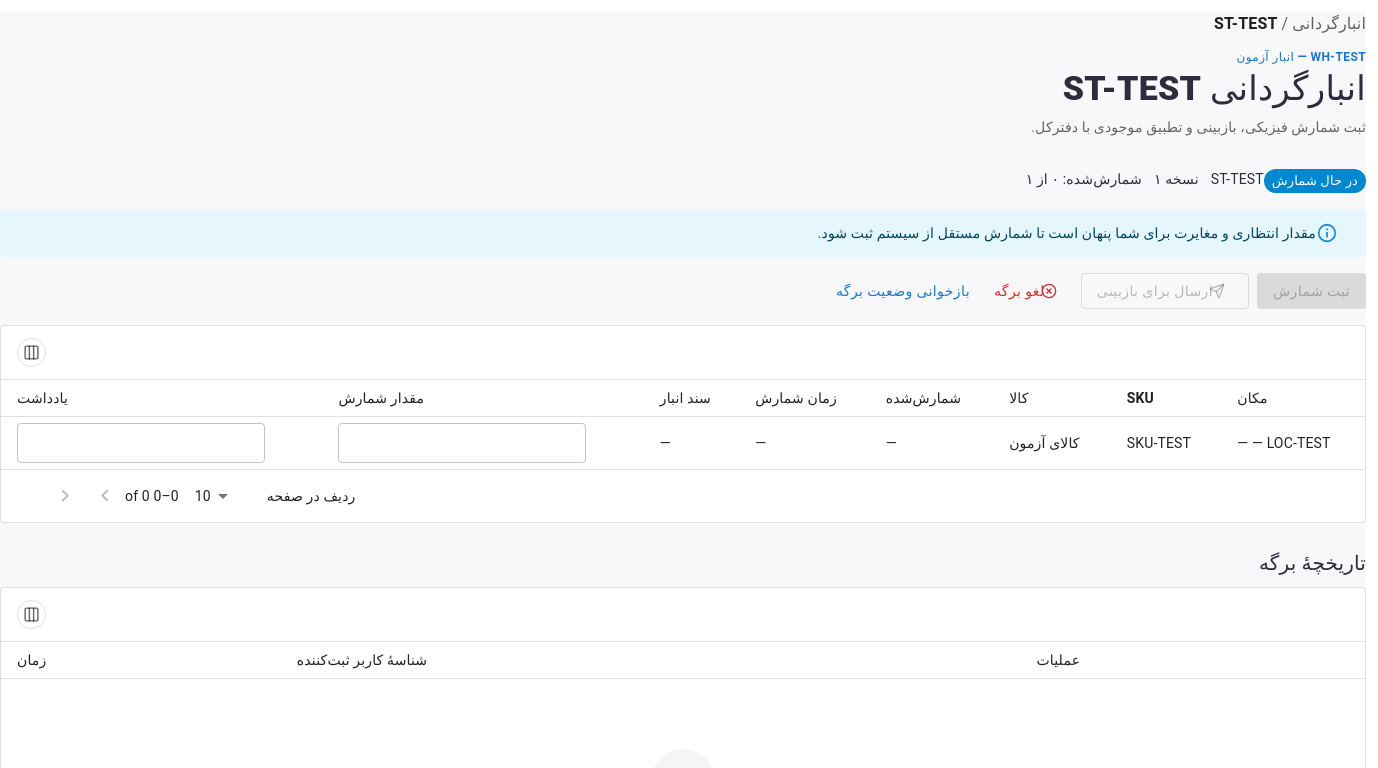
it: Stocktake count sheet operator states › keeps counters blind, validates integer input and disables incomplete submission
Expected: the button "ارسال برای بازبینی" is disabled, left=1081, top=273, right=1249, bottom=309
In the field named "مقدار شمارش SKU-TEST": (462, 443) left=338, top=423, right=586, bottom=463, type "1.5"
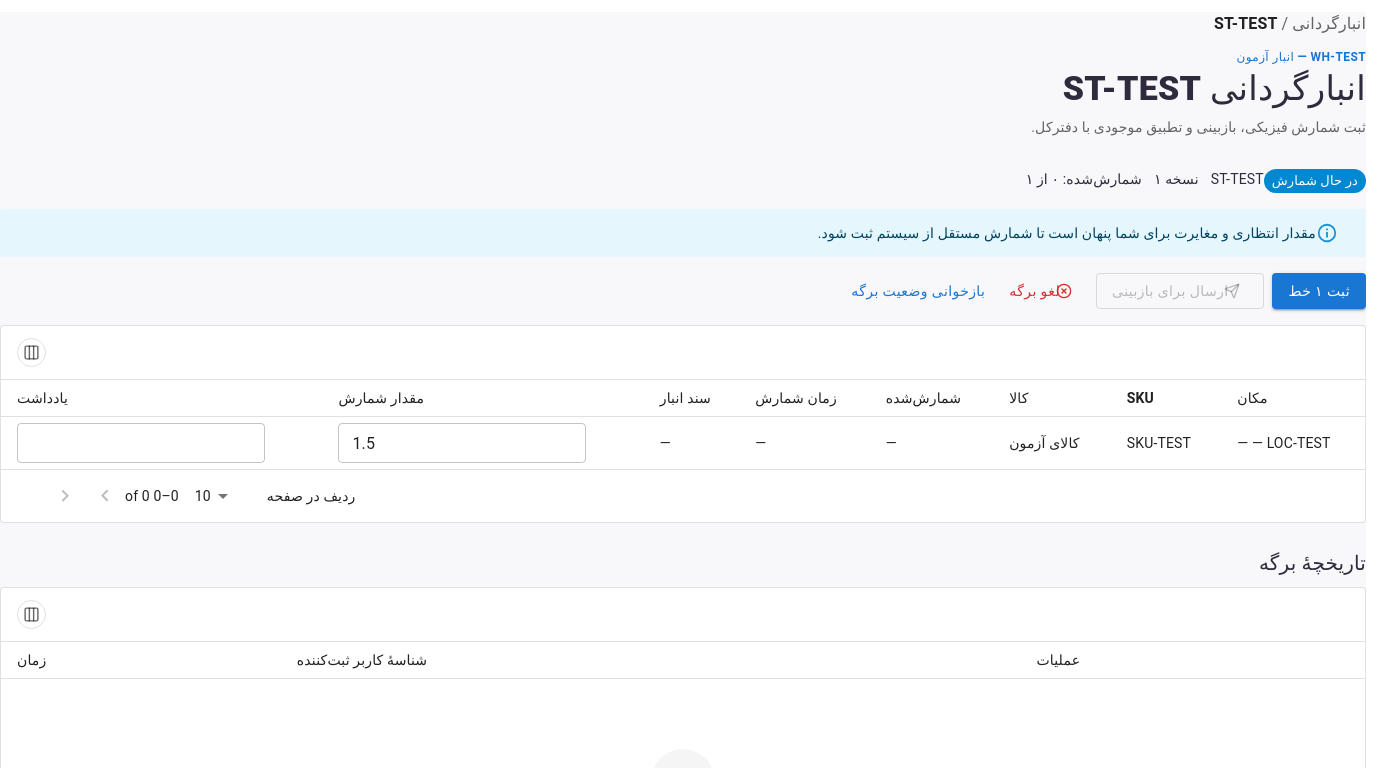
Click the button "ثبت ۱ خط": (1319, 291) left=1272, top=273, right=1366, bottom=309
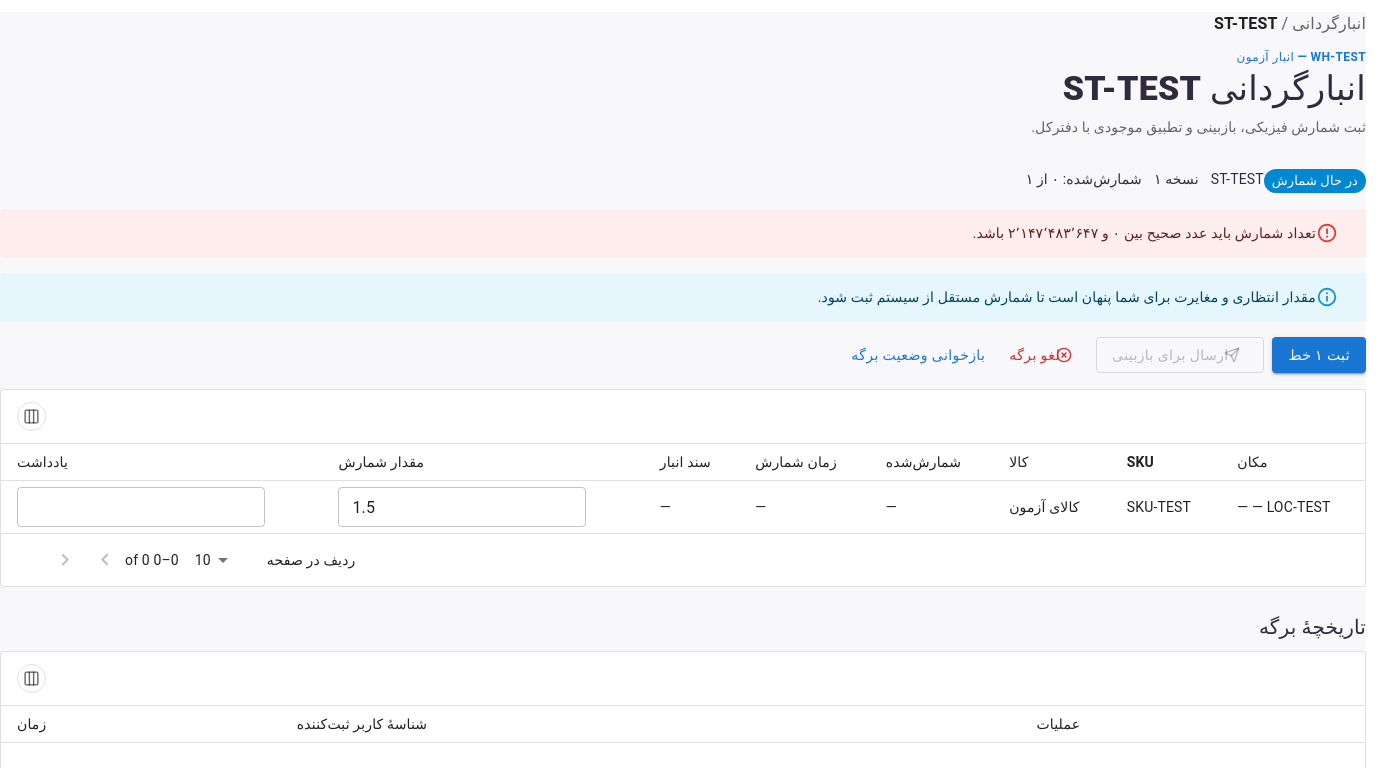
Now the text "تعداد شمارش باید عدد صحیح بین ۰ و ۲٬۱۴۷٬۴۸۳٬۶۴۷ باشد." is shown, box left=973, top=225, right=1316, bottom=241
Replace the text in the field named "مقدار شمارش SKU-TEST" with "۰": (462, 507) left=338, top=487, right=586, bottom=527
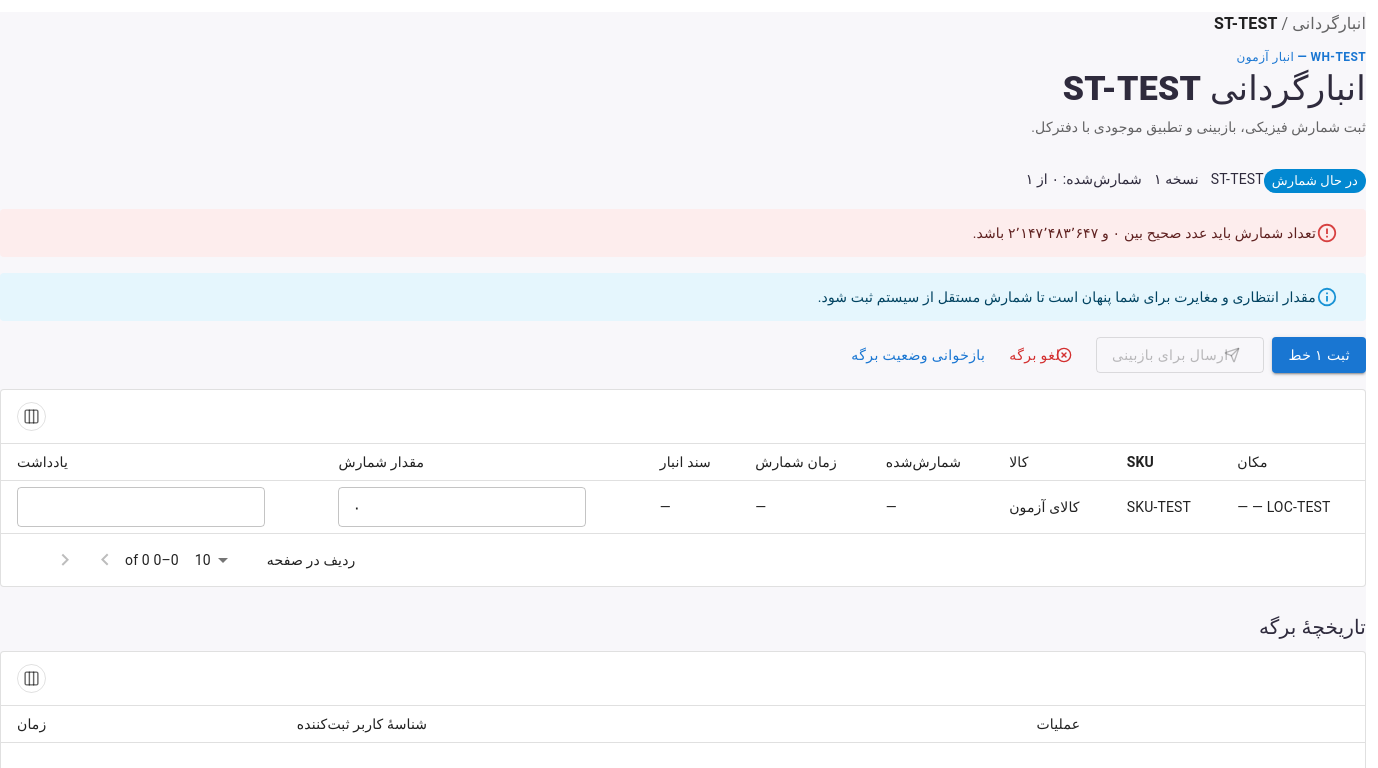
Click the button "ثبت ۱ خط": (1319, 355) left=1272, top=337, right=1366, bottom=373
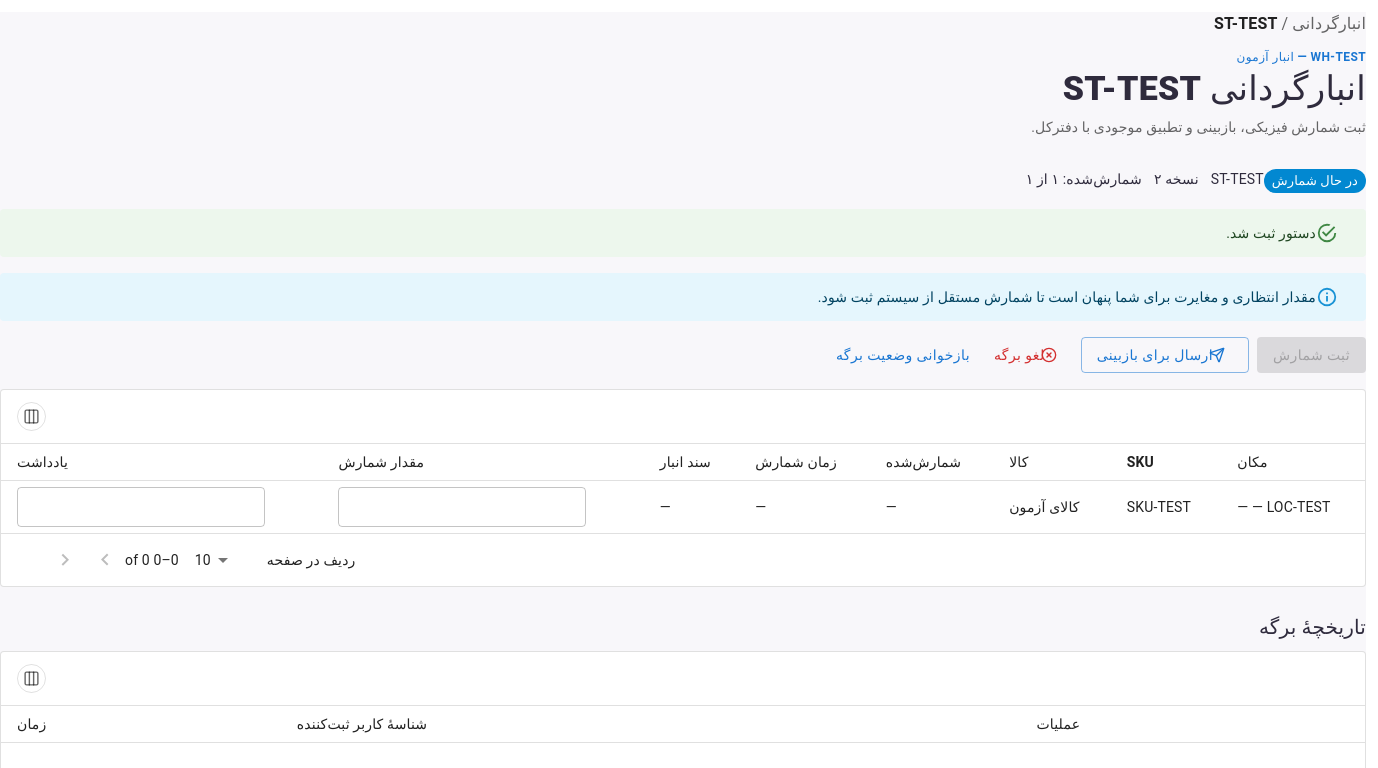
Now the button "ارسال برای بازبینی" is enabled, box left=1081, top=337, right=1249, bottom=373
